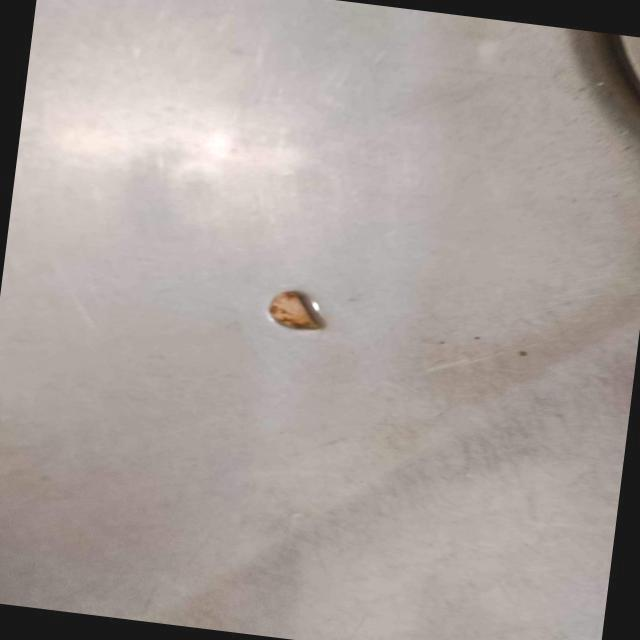General: (3, 1, 639, 637)
Sharps: (269, 289, 325, 330)
